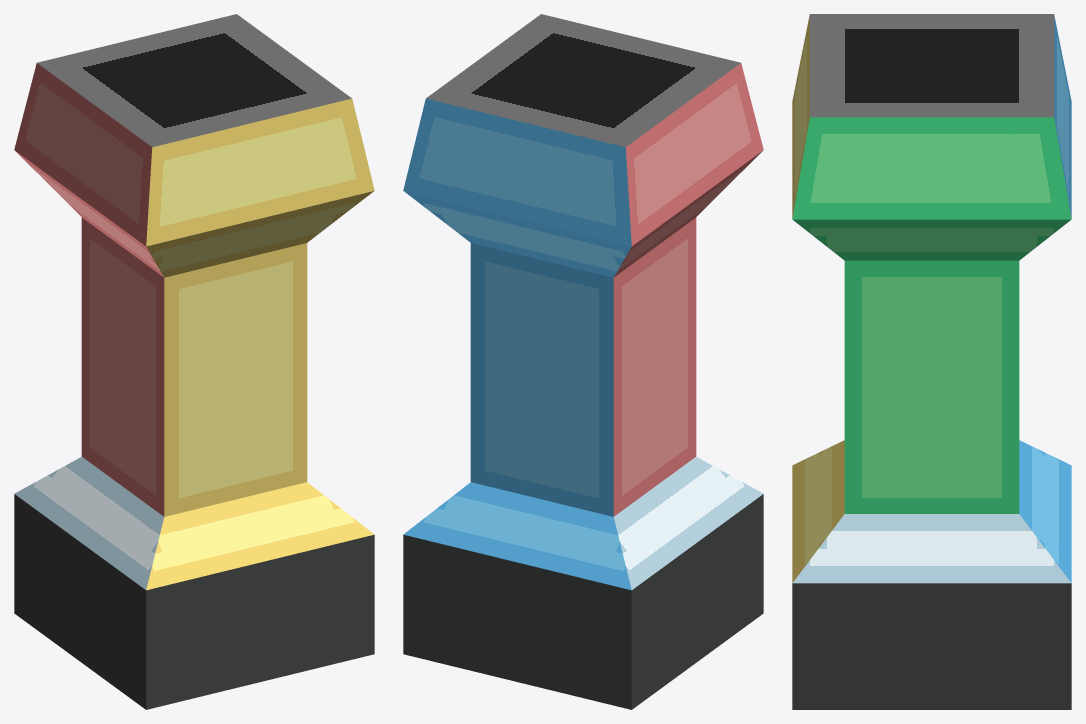
The model's file is tower_test_3d.gltf.
3 renders of one model, left to right at view 1: azimuth 30°, elevation 25°; view 2: azimuth 150°, elevation 25°; view 3: azimuth 270°, elevation 25°, orthographic. The views are drawn at different scales.
Visible parts, largest first — view 1: cuboid; view 2: cuboid; view 3: cuboid.
Part boxes in pixels (bbox=[...]): cuboid: bbox=[14, 14, 374, 709]; cuboid: bbox=[403, 14, 763, 709]; cuboid: bbox=[792, 14, 1071, 709].
Bounding box in the file's own units: 1 × 2.31 × 1.
1 material, 1 textured.
